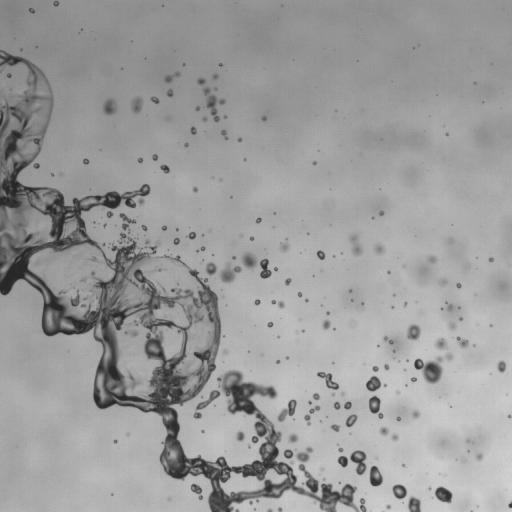droplet: (414, 353, 452, 383), (337, 450, 366, 475), (219, 262, 241, 282), (119, 213, 136, 231), (434, 486, 452, 503), (366, 376, 386, 391), (369, 465, 382, 486), (392, 484, 407, 500), (407, 324, 420, 340), (103, 99, 116, 114), (408, 496, 421, 511), (131, 97, 142, 113), (456, 336, 469, 348), (345, 414, 357, 427), (435, 338, 447, 349), (206, 262, 216, 275), (497, 360, 506, 372), (375, 243, 384, 254), (280, 242, 289, 251), (322, 319, 330, 329), (383, 336, 393, 344), (236, 431, 244, 441), (288, 434, 298, 442), (160, 165, 169, 173), (317, 250, 325, 259), (428, 255, 436, 263), (380, 427, 388, 435), (187, 232, 196, 239), (331, 424, 340, 431), (151, 96, 159, 103), (344, 401, 351, 409), (412, 410, 419, 418), (221, 130, 227, 139), (166, 89, 173, 96), (449, 323, 456, 330), (333, 402, 340, 409), (391, 434, 398, 441), (475, 453, 482, 460), (197, 78, 205, 84), (190, 126, 196, 134), (285, 278, 291, 285), (312, 393, 319, 399), (173, 238, 179, 244), (254, 299, 260, 305), (439, 279, 446, 284), (447, 303, 452, 310), (53, 0, 58, 6), (152, 154, 157, 160), (83, 158, 88, 164), (33, 163, 39, 168), (141, 225, 147, 230), (267, 322, 273, 327), (222, 349, 228, 354), (384, 364, 389, 370), (372, 366, 378, 371), (91, 257, 98, 261), (29, 8, 34, 13), (213, 74, 218, 79), (256, 218, 261, 223), (193, 186, 197, 192), (410, 377, 416, 381), (138, 157, 142, 162), (456, 283, 461, 287), (338, 447, 342, 452), (386, 504, 390, 509), (7, 73, 11, 77), (202, 117, 206, 121), (262, 116, 266, 120), (379, 211, 383, 215), (162, 226, 166, 230), (489, 257, 493, 261), (278, 507, 282, 511), (184, 143, 188, 146), (250, 236, 253, 240), (298, 292, 301, 296), (404, 302, 407, 306), (396, 417, 400, 420), (0, 90, 3, 93), (196, 107, 199, 110), (238, 138, 241, 141), (313, 161, 316, 164), (274, 268, 277, 271), (276, 360, 279, 363), (341, 392, 344, 395), (114, 440, 117, 443), (103, 224, 106, 226), (449, 239, 452, 241), (233, 256, 235, 259), (387, 271, 390, 273), (326, 312, 329, 314), (302, 329, 304, 332), (286, 356, 288, 359), (396, 391, 399, 393), (308, 401, 311, 403), (508, 415, 511, 417), (201, 430, 204, 432), (466, 439, 469, 441), (320, 468, 323, 470), (219, 63, 221, 65), (36, 262, 38, 264), (306, 299, 308, 301)
ligament: (0, 49, 366, 511), (203, 87, 225, 122), (242, 252, 271, 278), (277, 399, 296, 421), (317, 372, 338, 390), (369, 395, 383, 418), (304, 405, 319, 425), (349, 234, 362, 255), (190, 483, 202, 500), (164, 72, 179, 82), (271, 300, 284, 308), (197, 246, 205, 251), (508, 501, 511, 508), (266, 509, 273, 511)
